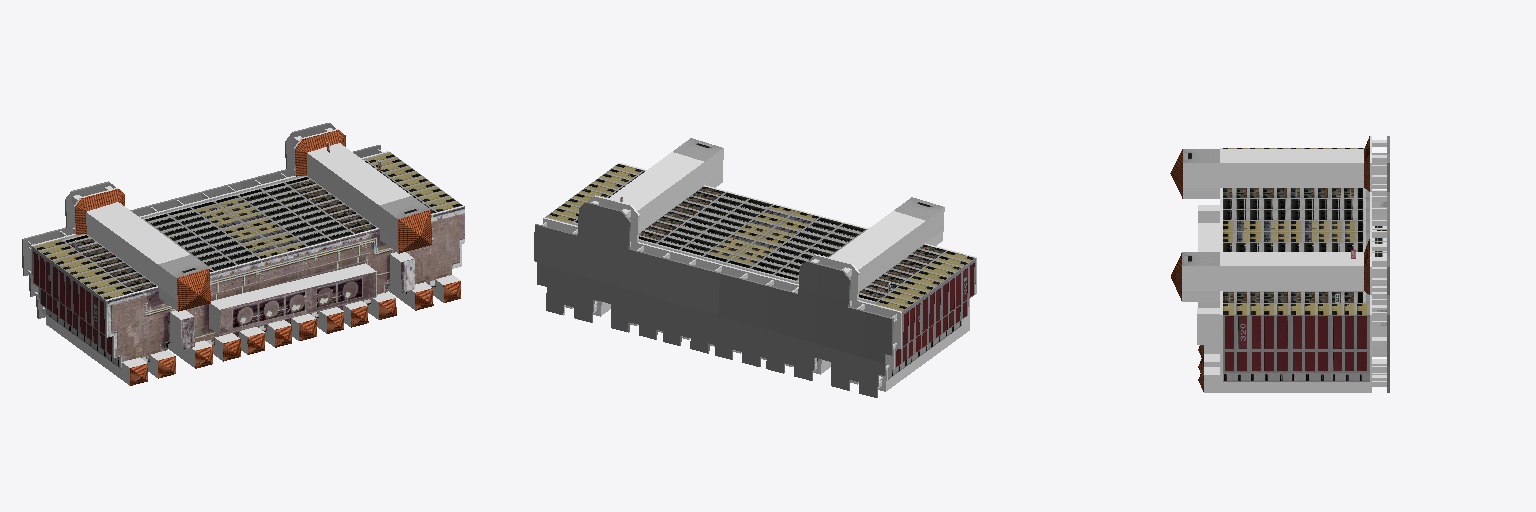
3 renders of one model, left to right at view 1: azimuth 30°, elevation 25°; view 2: azimuth 150°, elevation 25°; view 3: azimuth 270°, elevation 25°, orthographic.
Visible parts, largest first — view 1: polygon.789; view 2: polygon.789; view 3: polygon.789.
Boxes of the visible parts, box(x1,y1,x2,y2) form: polygon.789: box(22, 123, 464, 385); polygon.789: box(534, 138, 976, 397); polygon.789: box(1170, 136, 1389, 392).
Bounding box in the file's own units: 82.97 × 27.57 × 43.92.
1 materials, 1 textured.